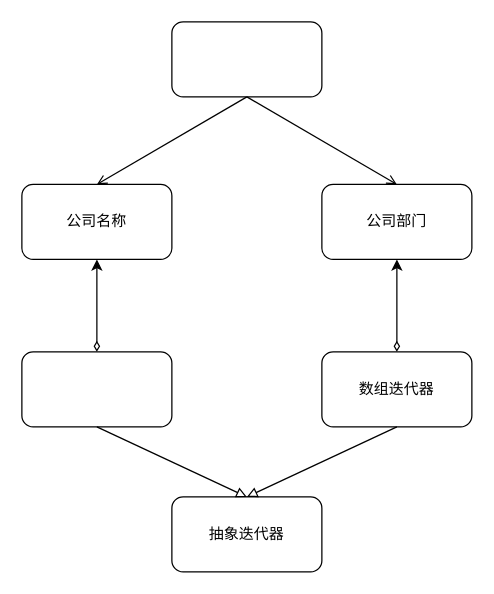
This 494x594 diagram has some shape labels left out. The box of each missing label's shape, as (x1, y1, x2, y2) in pixels:
客户端: (171, 21, 322, 97)
集合迭代器: (21, 351, 172, 427)
